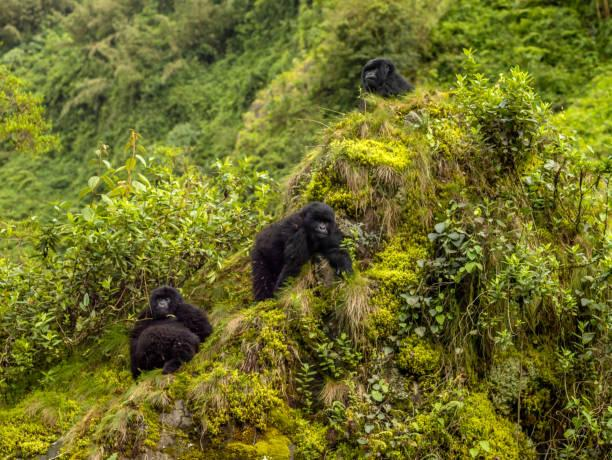goriile_montagne: (233, 201, 372, 318), (117, 252, 214, 390), (348, 47, 425, 115)
